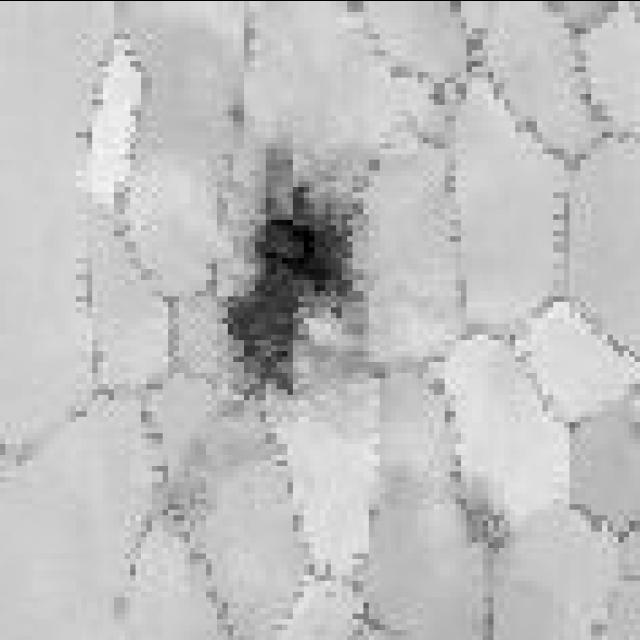good_void: (217, 146, 386, 404), (467, 500, 512, 554)
